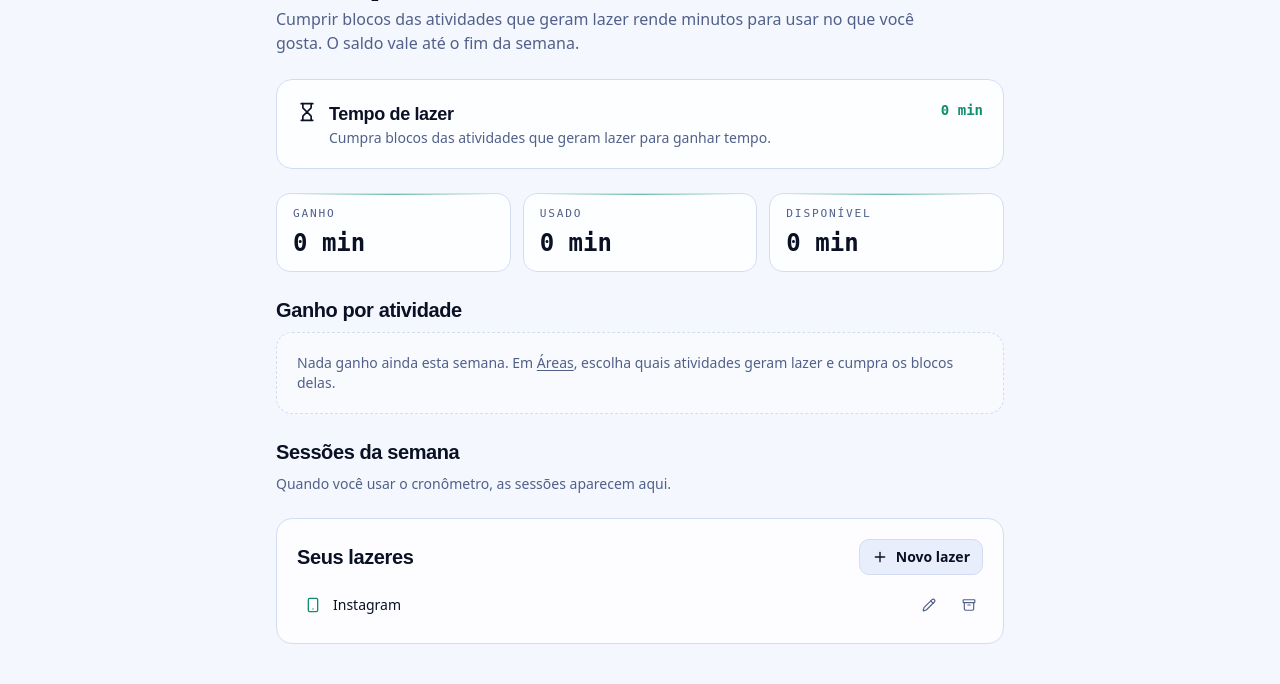
Test: LeisurePage (tempo de lazer) › renomeia e troca o ícone de um lazer
The image size is (1280, 684).
(page scrolled)
Click the button named "Editar lazer Instagram" at (929, 605), box top-left (915, 591), bottom-right (943, 619)
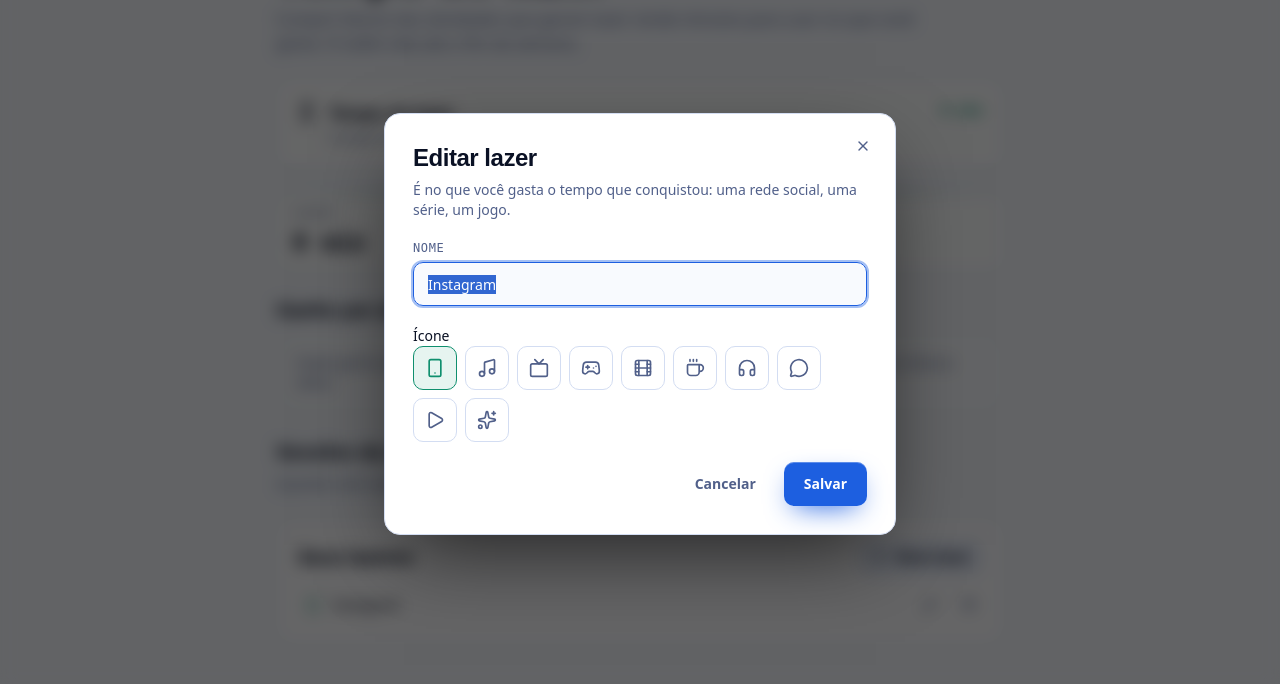
Check: the field labelled "Nome" holds "Instagram"
Check: the radio button named "Celular" is checked, box top-left (413, 346), bottom-right (457, 390)
Replace the text in the field labelled "Nome" with "Redes sociais" at (640, 284), box top-left (413, 262), bottom-right (867, 306)
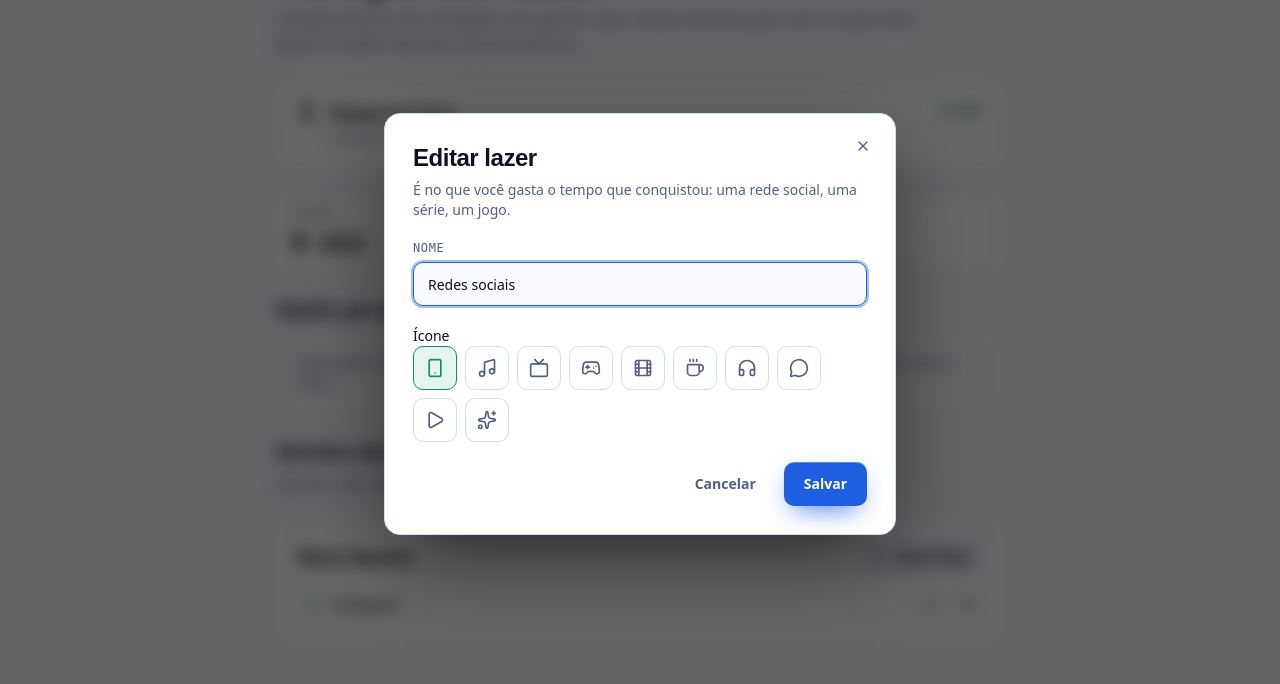
Click the radio button named "Música" at (487, 368), box top-left (465, 346), bottom-right (509, 390)
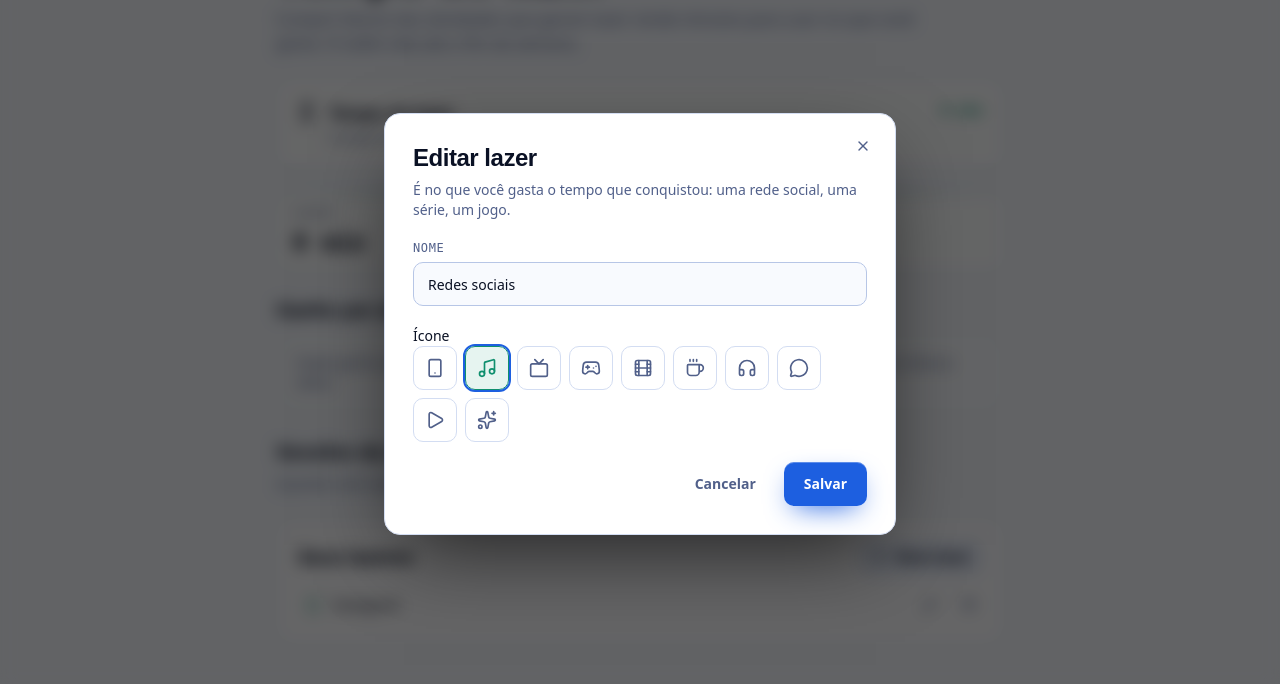
Click the button "Salvar" at (825, 484), box top-left (784, 462), bottom-right (867, 506)
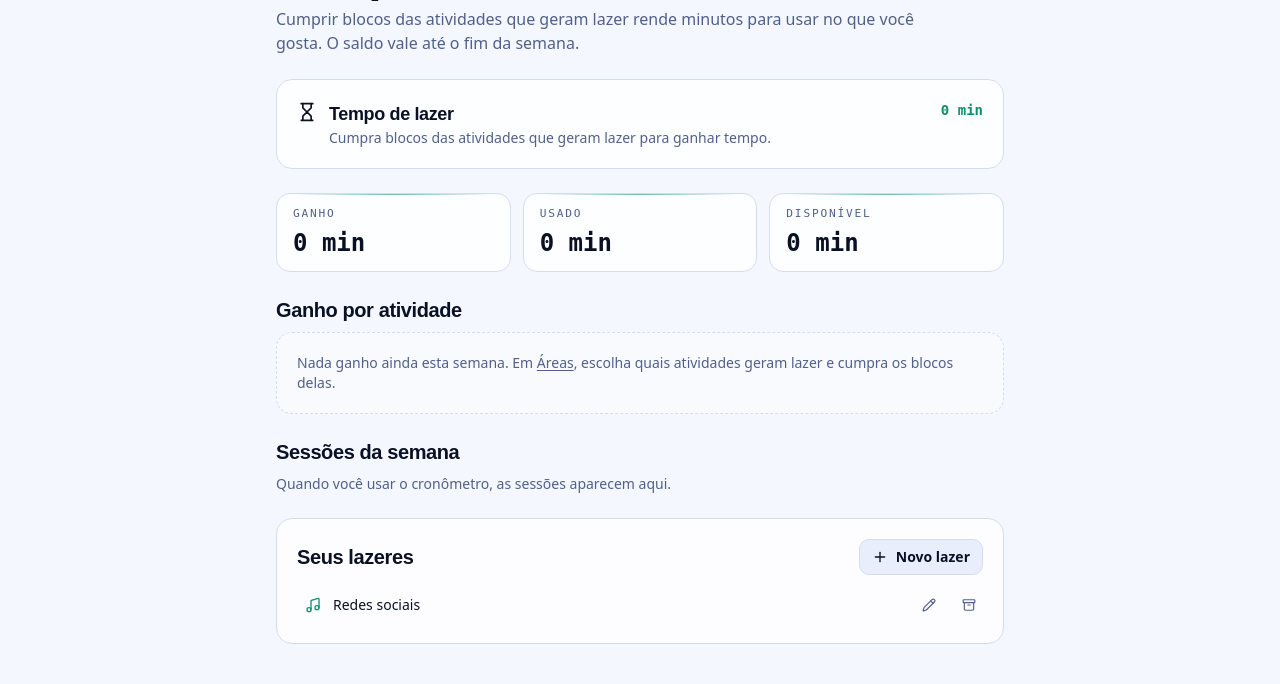
Check: the text "Redes sociais" is shown, box top-left (333, 595), bottom-right (420, 614)
